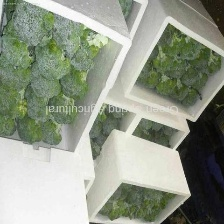foam_box: (0, 0, 135, 159), (117, 0, 223, 125), (79, 126, 195, 224)
